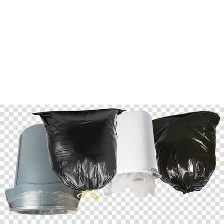plastic_bag: (27, 105, 129, 195), (148, 108, 224, 196), (100, 171, 159, 201)
